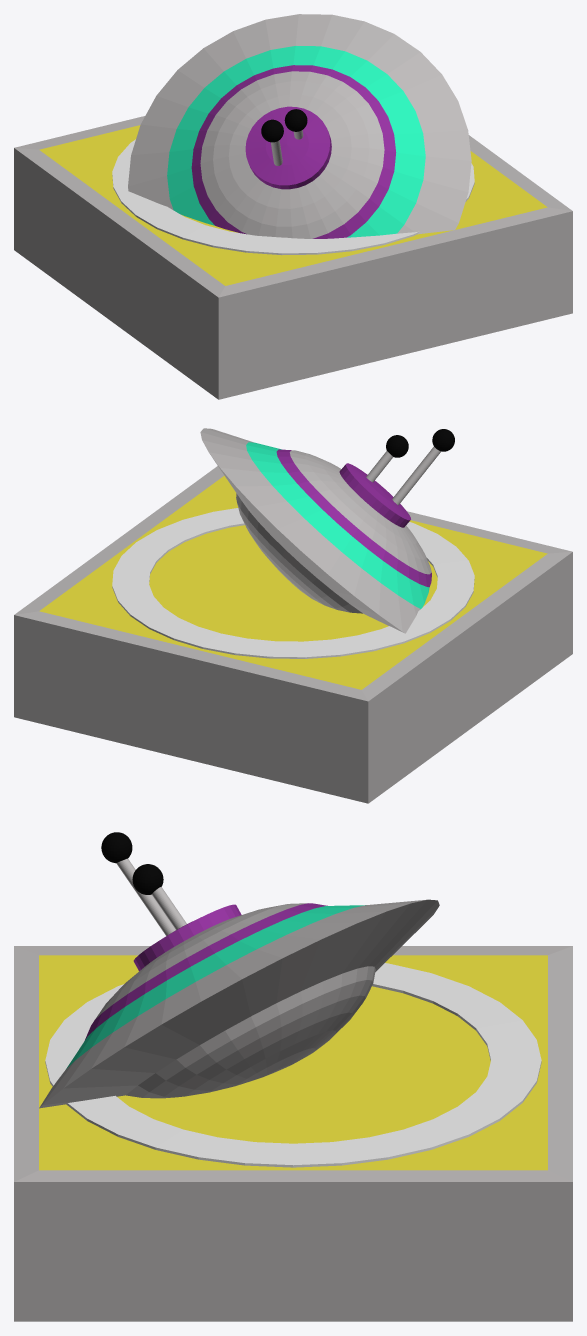
File: UFOYellowTile.fbx
3 renders of one model, top to bottom at view 1: azimuth 30°, elevation 25°; view 2: azimuth 150°, elevation 25°; view 3: azimuth 270°, elevation 25°, orthographic. The views are drawn at different scales.
Visible parts, largest first — view 1: Cube, Sphere, Cylinder; view 2: Cube, Sphere, Cylinder, Cylinder.002; view 3: Cube, Sphere, Cylinder, Cylinder.002, Sphere.001, Sphere.002.
Boxes of the visible parts, x1,y1,x2,y2 form: Cube: [14, 116, 572, 399]; Sphere: [128, 14, 471, 238]; Cylinder: [112, 139, 474, 255]; Cube: [14, 466, 572, 803]; Sphere: [200, 428, 431, 633]; Cylinder: [112, 508, 474, 658]; Cylinder.002: [392, 446, 441, 505]; Cube: [14, 946, 572, 1321]; Sphere: [39, 899, 439, 1108]; Cylinder: [45, 963, 541, 1167]; Cylinder.002: [116, 858, 175, 935]; Sphere.001: [101, 832, 132, 863]; Sphere.002: [132, 864, 163, 894].
Size of the model in its own units: 200 by 127 by 200.
